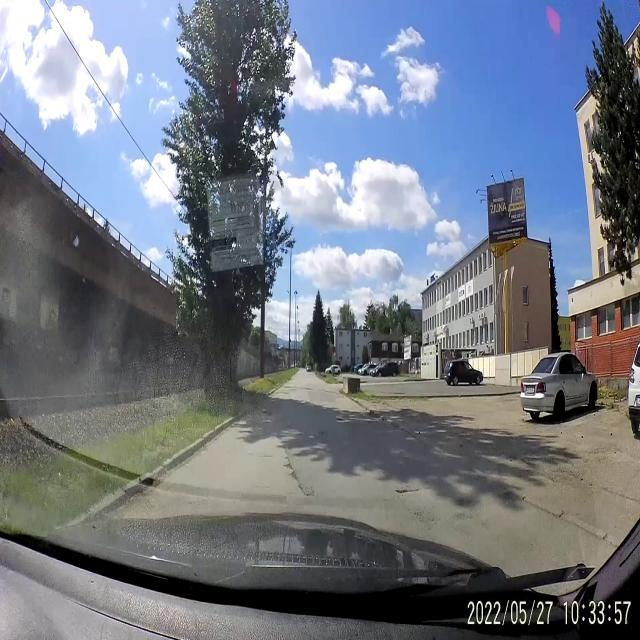Pothole: (284, 458, 306, 498), (392, 486, 417, 499)
